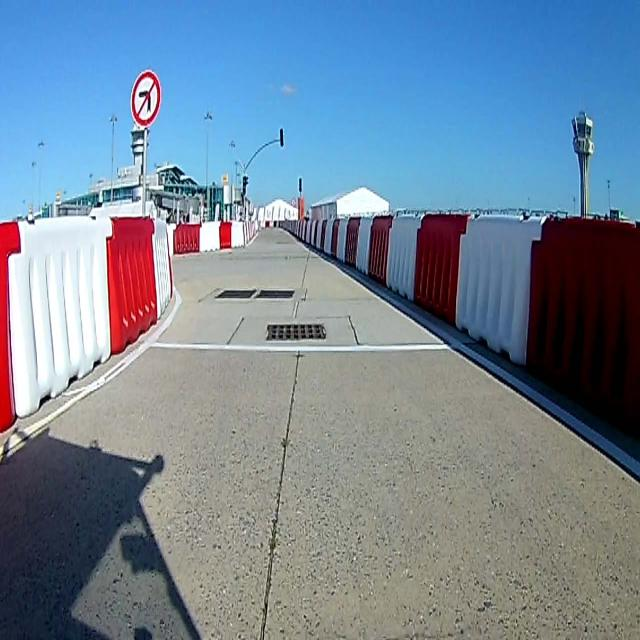soladonulmez: (128, 67, 162, 129)
